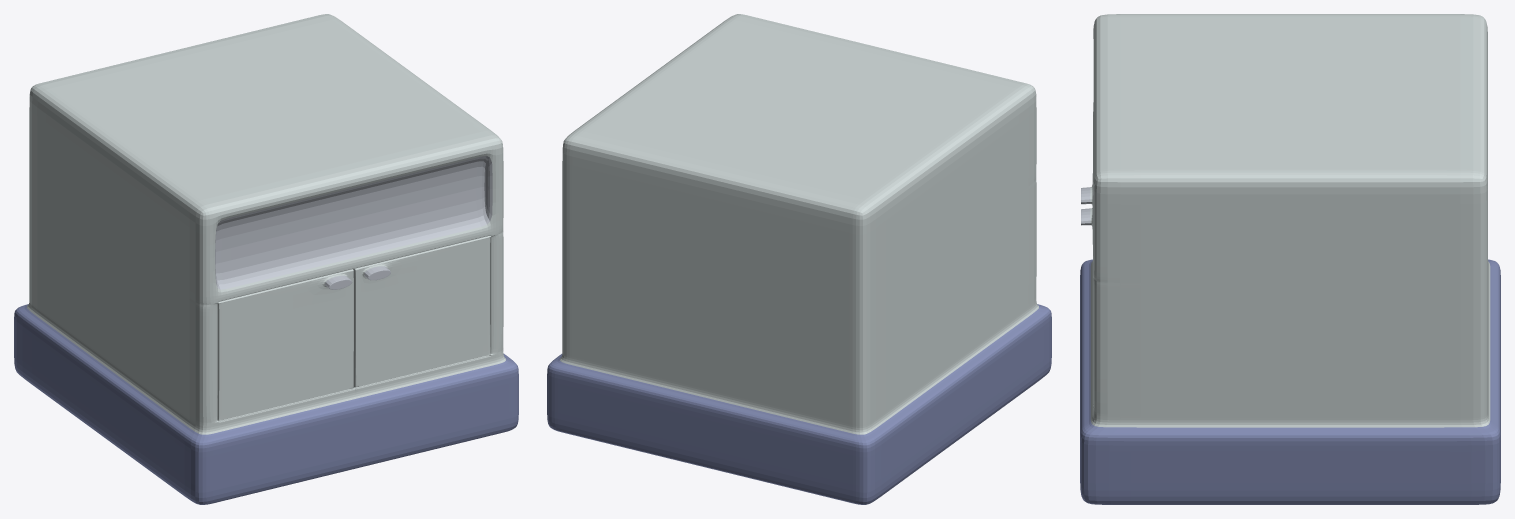
The model's file is Simple_stuff_blue.fbx.
3 views of the same model, side by side, from view 1: azimuth 30°, elevation 25°; view 2: azimuth 150°, elevation 25°; view 3: azimuth 270°, elevation 25° (orthographic). The views are drawn at different scales.
Parts seen in each view (by area): view 1: 큐브.047; view 2: 큐브.047; view 3: 큐브.047.
Part boxes in pixels (box(x1,y1,x2,y2)): 큐브.047: box(14, 14, 518, 504); 큐브.047: box(547, 14, 1051, 504); 큐브.047: box(1080, 14, 1500, 504).
Size of the model in its own units: 315 by 269 by 315.
